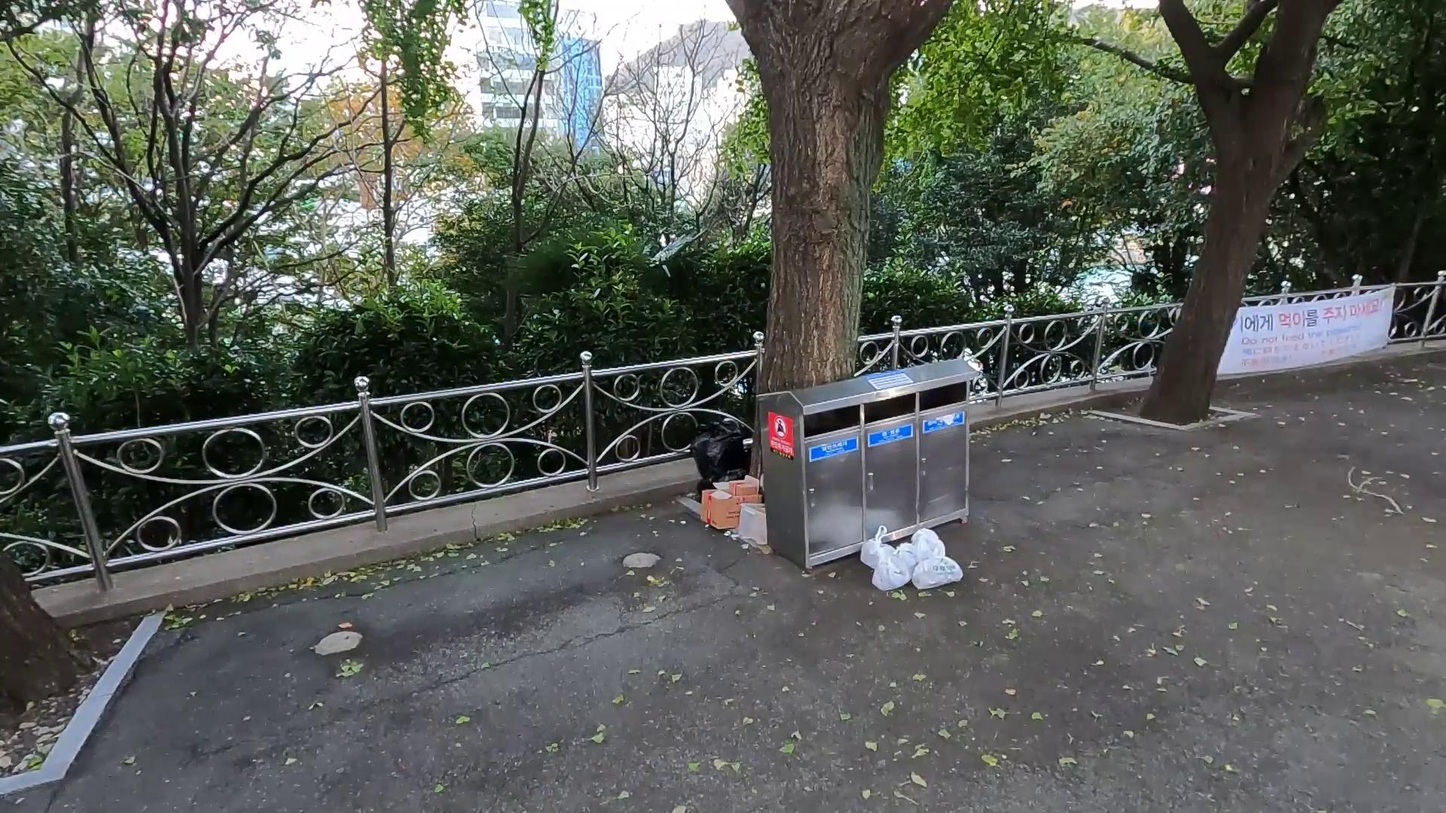trash: (690, 419, 750, 477), (699, 487, 765, 530), (912, 544, 966, 592), (694, 467, 756, 505), (858, 524, 902, 569), (872, 549, 918, 591), (910, 526, 950, 563), (738, 499, 768, 545), (894, 540, 932, 571), (728, 477, 761, 497)
